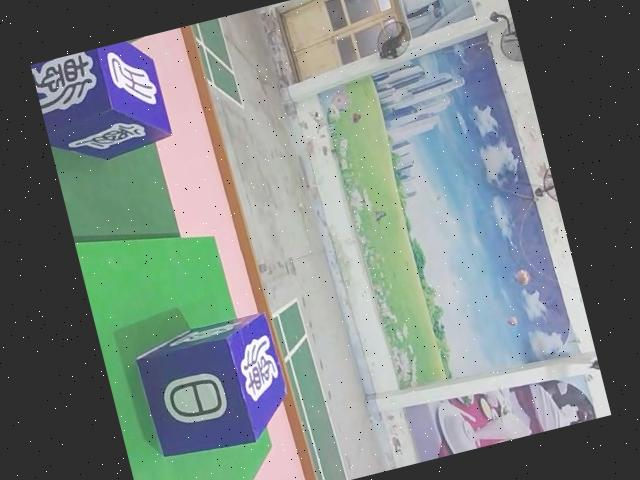R2 Fake Blue: (127, 309, 297, 465), (29, 36, 171, 169)
